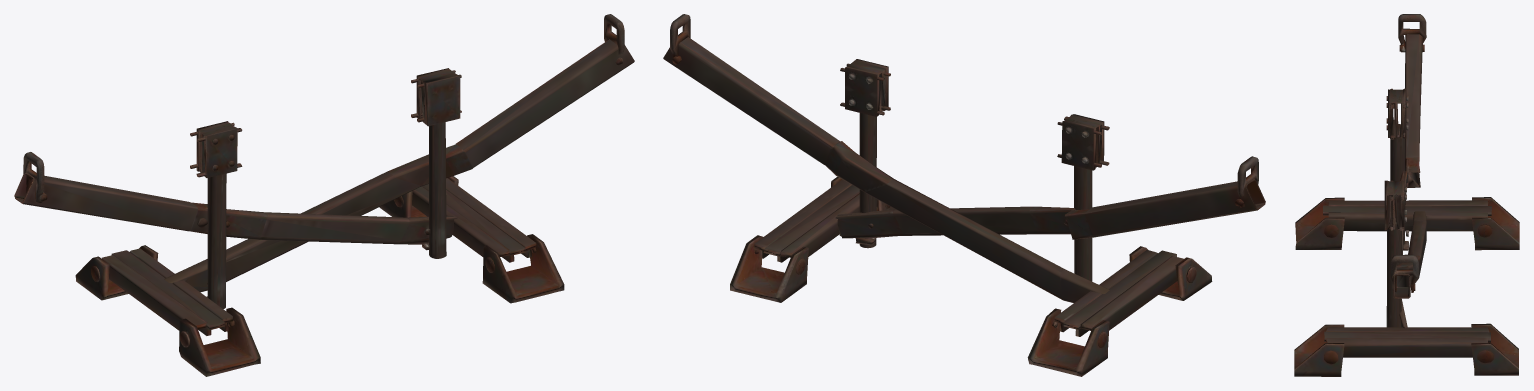
File: l_tanktrap.glb
3 renders of one model, left to right at view 1: azimuth 30°, elevation 25°; view 2: azimuth 150°, elevation 25°; view 3: azimuth 270°, elevation 25°, orthographic. The views are drawn at different scales.
Bounding box in the file's own units: 0.9497 × 0.2964 × 0.3579.
1 material, 1 textured.
